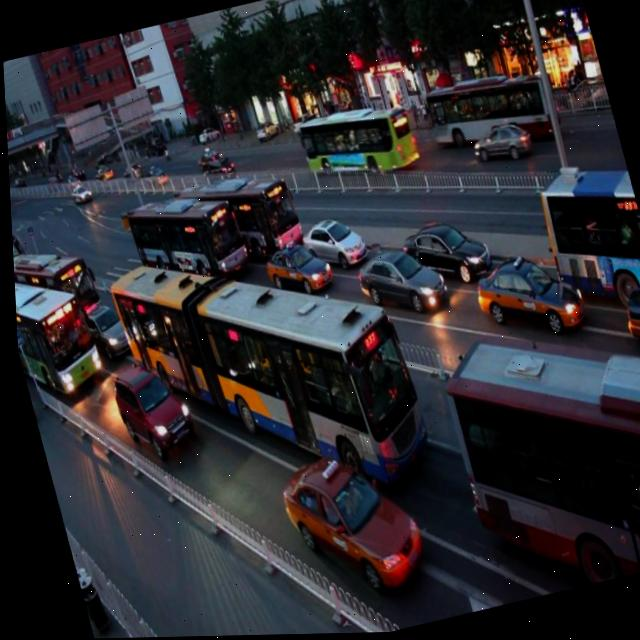car: (268, 442, 423, 609), (463, 236, 586, 350), (103, 357, 195, 465), (345, 229, 444, 323), (394, 203, 491, 288), (253, 226, 330, 300), (289, 201, 364, 275), (73, 299, 134, 365), (610, 278, 640, 358)
van: (96, 201, 435, 531), (427, 297, 640, 608), (528, 155, 640, 321), (116, 172, 249, 301), (170, 151, 305, 274), (11, 260, 106, 406), (9, 227, 100, 340)
